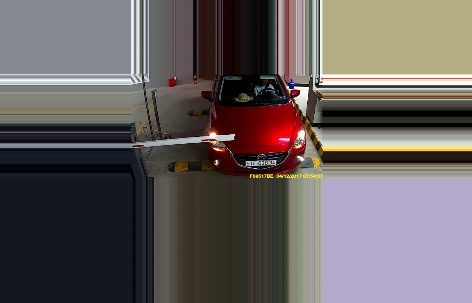plate: (242, 159, 278, 168)
